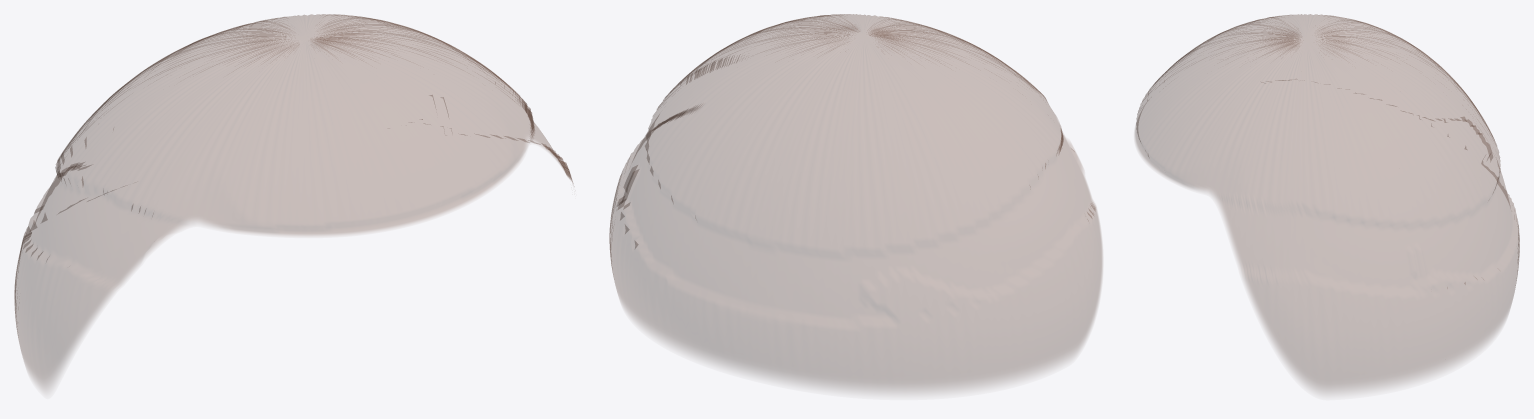
The model's file is Highlights-cb743c1a9a75252-hair.glb.
3 views of the same model, side by side, from view 1: azimuth 30°, elevation 25°; view 2: azimuth 150°, elevation 25°; view 3: azimuth 270°, elevation 25° (orthographic). The views are drawn at different scales.
Parts seen in each view (by area): view 1: 226 hair / Hair252 / buzz edge.001; view 2: 226 hair / Hair252 / buzz edge.001; view 3: 226 hair / Hair252 / buzz edge.001.
Boxes of the visible parts, x1,y1,x2,y2 form: 226 hair / Hair252 / buzz edge.001: (14, 14, 573, 389); 226 hair / Hair252 / buzz edge.001: (609, 14, 1102, 392); 226 hair / Hair252 / buzz edge.001: (1135, 14, 1519, 392).
Size of the model in its own units: 0.9886 by 0.5747 by 0.76.
1 material, 1 textured.
